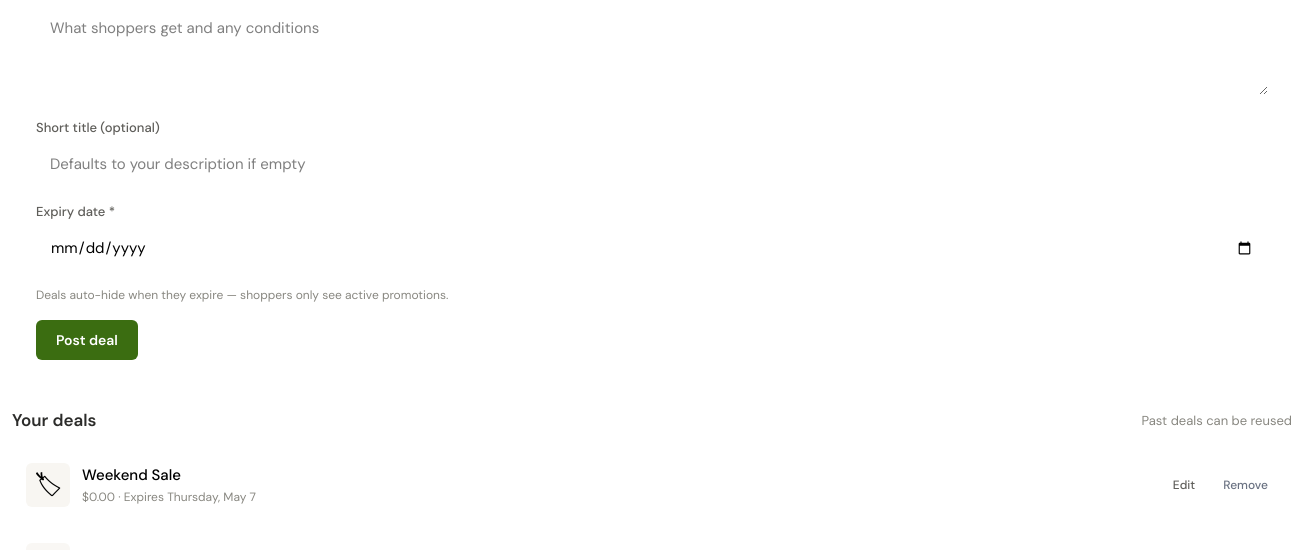
Test case: ManageDealsClient component › hides the edit form when Cancel is clicked
The width and height of the screenshot is (1304, 550).
Expected: the text "Weekend Sale" is shown, x1=82 y1=465 x2=181 y2=485
Click the button "Edit".
click(1184, 485)  # box x1=1163 y1=472 x2=1205 y2=498
(page scrolled)
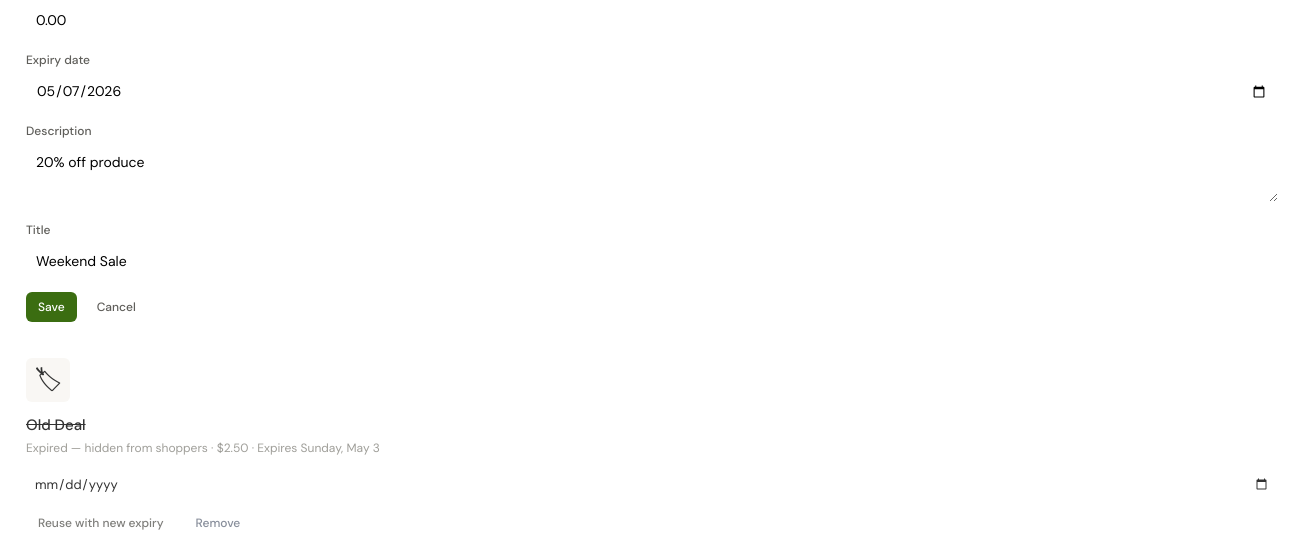
Now the button "Save" is shown, box x1=26 y1=292 x2=77 y2=322
Click the button "Cancel".
click(116, 307)  # box x1=85 y1=292 x2=148 y2=322
(page scrolled)
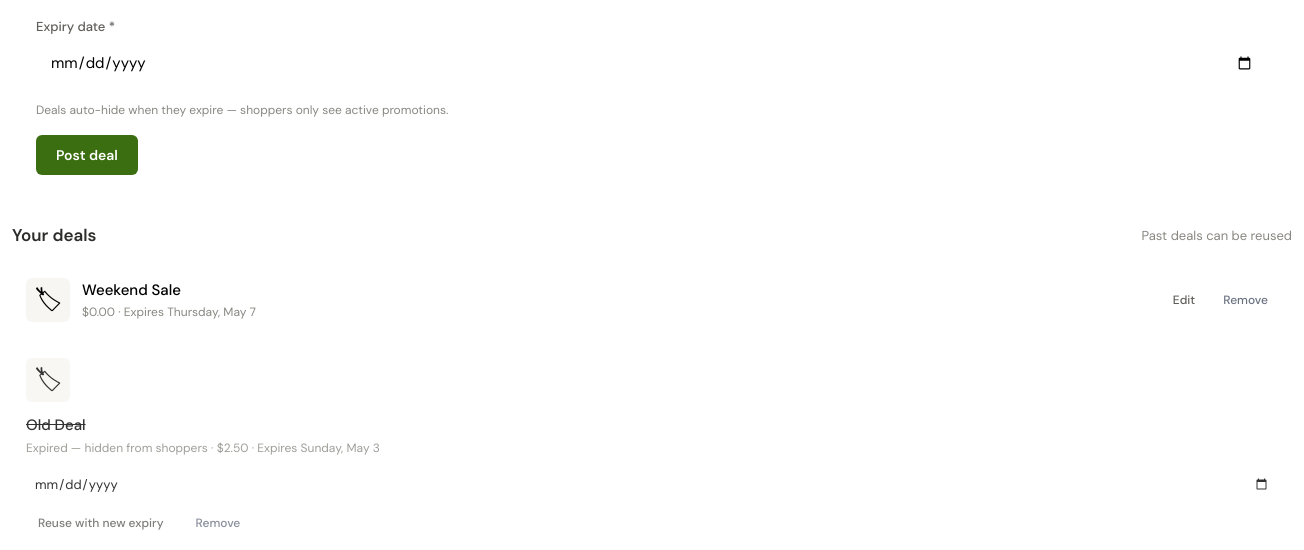
Now the button "Save" is gone
